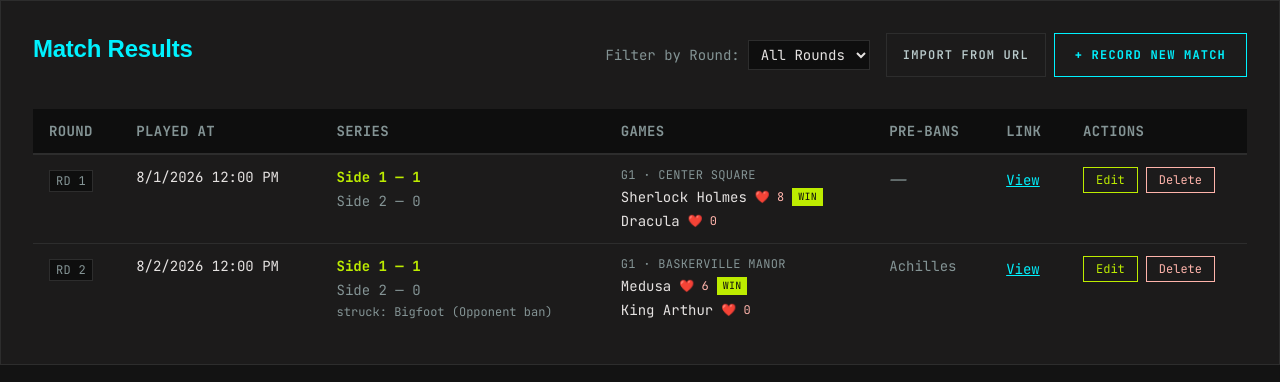
Test: MatchListAdmin › filters the visible rows to the selected round without re-requesting
Select "Round 1" in the dropdown with id "round-filter": (809, 55) x1=748 y1=40 x2=870 y2=70
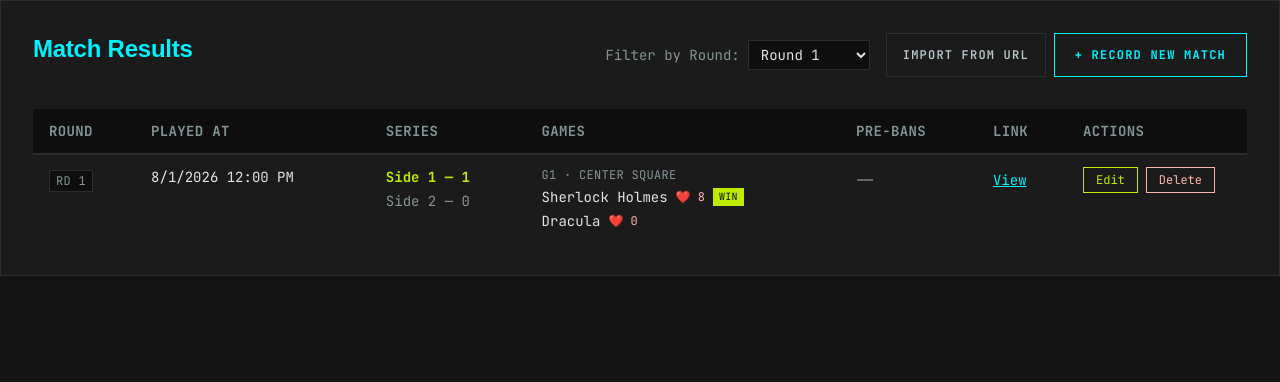
Expected: the text "Center Square" is shown, x1=542 y1=167 x2=677 y2=183
Now the text "Baskerville Manor" is gone
